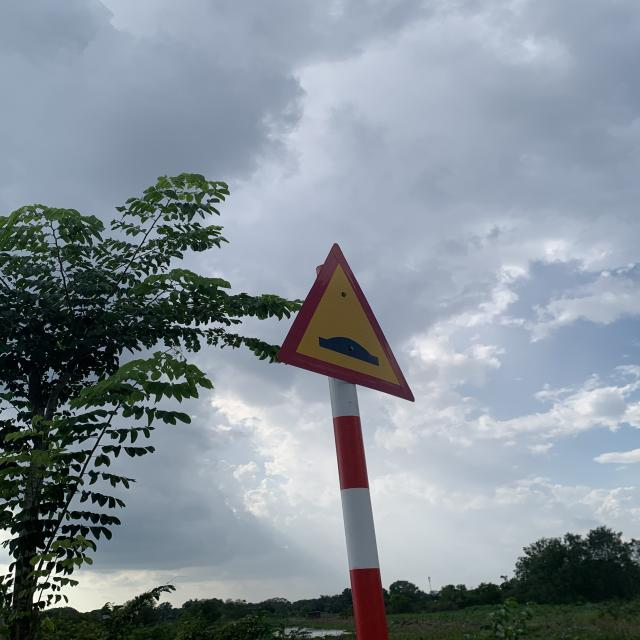Duong_Cong_Ben_Phai: (276, 242, 420, 405)
